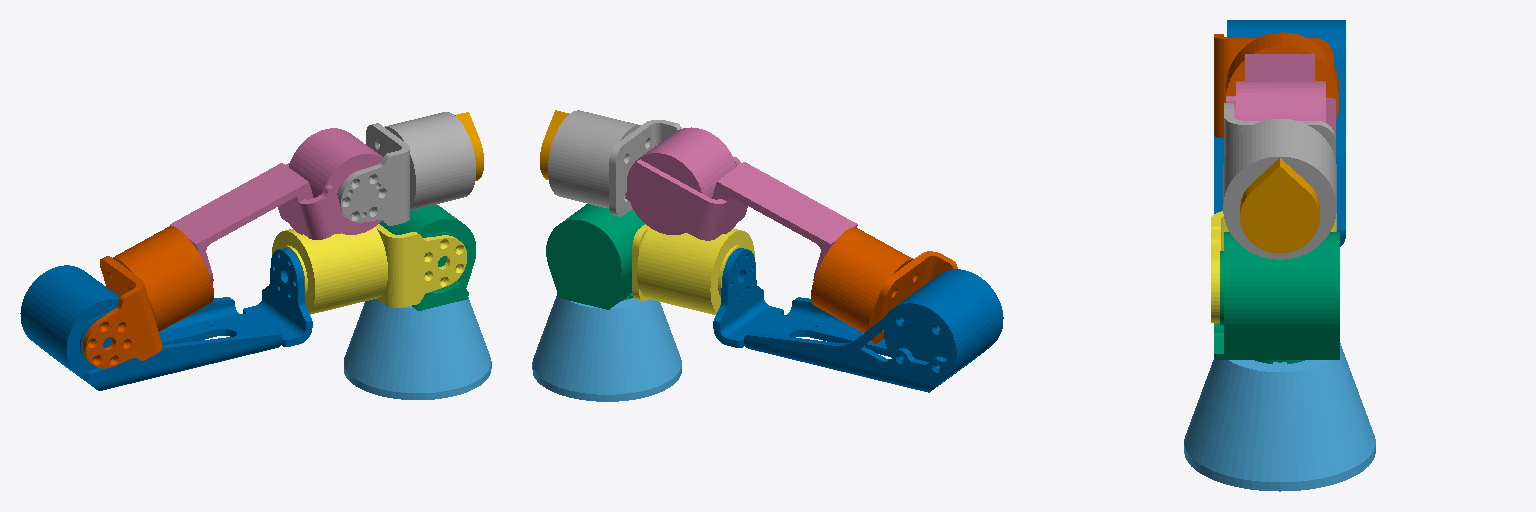
robot.urdf — swingarm_v2:
<?xml version="1.0" ?>
<!-- =================================================================================== -->
<!-- |    This document was autogenerated by xacro from robot.xacro                    | -->
<!-- |    EDITING THIS FILE BY HAND IS NOT RECOMMENDED                                 | -->
<!-- =================================================================================== -->
<robot name="swingarm_v2">
  <link name="world"/>
  <link name="base_link">
    <inertial>
      <origin rpy="0 0 0" xyz="0.0 0.0 0.028"/>
      <mass value="0.498"/>
      <inertia ixx="0.00027600000000000004" ixy="4.484e-08" ixz="-8.321810000000001e-07" iyy="0.0002769" iyz="1.42e-10" izz="0.000293"/>
    </inertial>
    <visual>
      <origin rpy="0 0 0" xyz="0 0 0"/>
      <geometry>
        <mesh filename="package://swingarm_v2_config/description/meshes/base_link.stl" scale="1 1 1"/>
      </geometry>
    </visual>
    <collision>
      <origin rpy="0 0 0" xyz="0 0 0"/>
      <geometry>
        <mesh filename="package://swingarm_v2_config/description/meshes/base_link.stl" scale="1 1 1"/>
      </geometry>
    </collision>
  </link>
  <link name="link1">
    <inertial>
      <origin rpy="0 0 0" xyz="0.0 -0.002 0.031"/>
      <mass value="0.432"/>
      <inertia ixx="0.00022150000000000002" ixy="7.813980000000001e-07" ixz="-7.29e-09" iyy="0.0001987" iyz="-6.728010000000001e-07" izz="0.0002012"/>
    </inertial>
    <visual>
      <origin rpy="0 0 0" xyz="0 0 0"/>
      <geometry>
        <mesh filename="package://swingarm_v2_config/description/meshes/link1.stl" scale="1 1 1"/>
      </geometry>
    </visual>
    <collision>
      <origin rpy="0 0 0" xyz="0 0 0"/>
      <geometry>
        <mesh filename="package://swingarm_v2_config/description/meshes/link1.stl" scale="1 1 1"/>
      </geometry>
    </collision>
  </link>
  <link name="link2">
    <inertial>
      <origin rpy="0 0 0" xyz="-0.055 -0.005 0.0"/>
      <mass value="0.553"/>
      <inertia ixx="0.0002747" ixy="0.0001009" ixz="-7.5e-11" iyy="0.0004359" iyz="-3.2072000000000004e-08" izz="0.0004935"/>
    </inertial>
    <visual>
      <origin rpy="0 0 0" xyz="0 0 0"/>
      <geometry>
        <mesh filename="package://swingarm_v2_config/description/meshes/link2.stl" scale="1 1 1"/>
      </geometry>
    </visual>
    <collision>
      <origin rpy="0 0 0" xyz="0 0 0"/>
      <geometry>
        <mesh filename="package://swingarm_v2_config/description/meshes/link2.stl" scale="1 1 1"/>
      </geometry>
    </collision>
  </link>
  <link name="link3">
    <inertial>
      <origin rpy="0 0 0" xyz="-0.112 0.001 -0.015"/>
      <mass value="0.952"/>
      <inertia ixx="0.0007244" ixy="4.3165882000000004e-05" ixz="0.00045200000000000004" iyy="0.003268" iyz="-2.5065069e-05" izz="0.0033360000000000004"/>
    </inertial>
    <visual>
      <origin rpy="0 0 0" xyz="0 0 0"/>
      <geometry>
        <mesh filename="package://swingarm_v2_config/description/meshes/link3.stl" scale="1 1 1"/>
      </geometry>
    </visual>
    <collision>
      <origin rpy="0 0 0" xyz="0 0 0"/>
      <geometry>
        <mesh filename="package://swingarm_v2_config/description/meshes/link3.stl" scale="1 1 1"/>
      </geometry>
    </collision>
  </link>
  <link name="link4">
    <inertial>
      <origin rpy="0 0.286 0" xyz="0.048 -0.004 0.014"/>
      <mass value="0.48"/>
      <inertia ixx="0.00025760000000000003" ixy="-8.390805400000001e-05" ixz="-3.6204464000000004e-05" iyy="0.00032520000000000004" iyz="-2.4580606000000003e-05" izz="0.00036990000000000005"/>
    </inertial>
    <visual>
      <origin rpy="0 0.286 0" xyz="0 0 0"/>
      <geometry>
        <mesh filename="package://swingarm_v2_config/description/meshes/link4.stl" scale="1 1 1"/>
      </geometry>
    </visual>
    <collision>
      <origin rpy="0 0.286 0" xyz="0 0 0"/>
      <geometry>
        <mesh filename="package://swingarm_v2_config/description/meshes/link4.stl" scale="1 1 1"/>
      </geometry>
    </collision>
  </link>
  <link name="link5">
    <inertial>
      <origin rpy="0 0 0" xyz="0.089 0.0 0.004"/>
      <mass value="0.612"/>
      <inertia ixx="0.00023640000000000003" ixy="-8.627075e-06" ixz="0.00011760000000000001" iyy="0.001082" iyz="9.8253e-07" izz="0.001077"/>
    </inertial>
    <visual>
      <origin rpy="0 0 0" xyz="0 0 0"/>
      <geometry>
        <mesh filename="package://swingarm_v2_config/description/meshes/link5.stl" scale="1 1 1"/>
      </geometry>
    </visual>
    <collision>
      <origin rpy="0 0 0" xyz="0 0 0"/>
      <geometry>
        <mesh filename="package://swingarm_v2_config/description/meshes/link5.stl" scale="1 1 1"/>
      </geometry>
    </collision>
  </link>
  <link name="link6">
    <inertial>
      <origin rpy="0 0 0" xyz="0.05 0.0 0.0"/>
      <mass value="0.484"/>
      <inertia ixx="0.00022040000000000002" ixy="-6.5970771e-05" ixz="-2.3777000000000002e-08" iyy="0.00032490000000000004" iyz="1.02795e-07" izz="0.0003573"/>
    </inertial>
    <visual>
      <origin rpy="0 0 0" xyz="0 -0.023 0"/>
      <geometry>
        <mesh filename="package://swingarm_v2_config/description/meshes/link6.stl" scale="1 1 1"/>
      </geometry>
    </visual>
    <collision>
      <origin rpy="0 0 0" xyz="0 -0.023 0"/>
      <geometry>
        <mesh filename="package://swingarm_v2_config/description/meshes/link6.stl" scale="1 1 1"/>
      </geometry>
    </collision>
  </link>
  <link name="link7">
    <inertial>
      <origin rpy="0 0 0" xyz="0.005 0.0 0.001"/>
      <mass value="0.105"/>
      <inertia ixx="2.296e-05" ixy="0.0" ixz="-5.572e-09" iyy="1.383e-05" iyz="0.0" izz="1.089e-05"/>
    </inertial>
    <visual>
      <origin rpy="0 0 0" xyz="0 0 0"/>
      <geometry>
        <mesh filename="package://swingarm_v2_config/description/meshes/link7.stl" scale="1 1 1"/>
      </geometry>
    </visual>
    <collision>
      <origin rpy="0 0 0" xyz="0 0 0"/>
      <geometry>
        <mesh filename="package://swingarm_v2_config/description/meshes/link7.stl" scale="1 1 1"/>
      </geometry>
    </collision>
  </link>
  <joint name="fixed_world" type="fixed">
    <origin rpy="0 0 0" xyz="0 0 0"/>
    <parent link="world"/>
    <child link="base_link"/>
  </joint>
  <joint name="joint1" type="revolute">
    <origin rpy="0 0 0" xyz="0 0 0.0565"/>
    <parent link="base_link"/>
    <child link="link1"/>
    <axis xyz="0 0 1"/>
    <limit effort="30" lower="-1.57" upper="1.57" velocity="1.5"/>
  </joint>
  <joint name="joint2" type="revolute">
    <origin rpy="0 0 0" xyz="0 0 0.0335"/>
    <parent link="link1"/>
    <child link="link2"/>
    <axis xyz="0 1 0"/>
    <limit effort="30" lower="0" upper="3.14" velocity="1.5"/>
  </joint>
  <joint name="joint3" type="revolute">
    <origin rpy="0 0 0" xyz="-0.095 0 0"/>
    <parent link="link2"/>
    <child link="link3"/>
    <axis xyz="1 0 0"/>
    <limit effort="30" lower="-3.14" upper="0.0" velocity="1.5"/>
  </joint>
  <joint name="joint4" type="revolute">
    <origin rpy="0 -0.286 0" xyz="-0.155 0 0"/>
    <parent link="link3"/>
    <child link="link4"/>
    <axis xyz="0 1 0"/>
    <limit effort="10" lower="-1.1" upper="0.3" velocity="1.5"/>
  </joint>
  <joint name="joint5" type="revolute">
    <origin rpy="0  0  0" xyz="0.0845 0 0"/>
    <parent link="link4"/>
    <child link="link5"/>
    <axis xyz="1 0 0"/>
    <limit effort="10" lower="-0.785" upper="0.785" velocity="1.5"/>
  </joint>
  <joint name="joint6" type="revolute">
    <origin rpy="0 0.286 0" xyz="0.1177 0 0"/>
    <parent link="link5"/>
    <child link="link6"/>
    <axis xyz="0 1 0"/>
    <limit effort="10" lower="-1.57" upper="1.57" velocity="1.5"/>
  </joint>
  <joint name="joint7" type="revolute">
    <origin rpy="0 0 0" xyz="0.0845 0 0"/>
    <parent link="link6"/>
    <child link="link7"/>
    <axis xyz="1 0 0"/>
    <limit effort="10" lower="-1.57" upper="1.57" velocity="1.5"/>
  </joint>
  <transmission name="joint1_tran">
    <type>transmission_interface/SimpleTransmission</type>
    <joint name="joint1">
      <hardwareInterface>hardware_interface/EffortJointInterface</hardwareInterface>
    </joint>
    <actuator name="joint1_motor">
      <hardwareInterface>hardware_interface/EffortJointInterface</hardwareInterface>
      <mechanicalReduction>1</mechanicalReduction>
    </actuator>
  </transmission>
  <transmission name="joint2_tran">
    <type>transmission_interface/SimpleTransmission</type>
    <joint name="joint2">
      <hardwareInterface>hardware_interface/EffortJointInterface</hardwareInterface>
    </joint>
    <actuator name="joint2_motor">
      <hardwareInterface>hardware_interface/EffortJointInterface</hardwareInterface>
      <mechanicalReduction>-1</mechanicalReduction>
    </actuator>
  </transmission>
  <transmission name="joint3_tran">
    <type>transmission_interface/SimpleTransmission</type>
    <joint name="joint3">
      <hardwareInterface>hardware_interface/EffortJointInterface</hardwareInterface>
    </joint>
    <actuator name="joint3_motor">
      <hardwareInterface>hardware_interface/EffortJointInterface</hardwareInterface>
      <mechanicalReduction>1</mechanicalReduction>
    </actuator>
  </transmission>
  <transmission name="joint4_tran">
    <type>transmission_interface/SimpleTransmission</type>
    <joint name="joint4">
      <hardwareInterface>hardware_interface/EffortJointInterface</hardwareInterface>
    </joint>
    <actuator name="joint4_motor">
      <hardwareInterface>hardware_interface/EffortJointInterface</hardwareInterface>
      <mechanicalReduction>-1</mechanicalReduction>
    </actuator>
  </transmission>
  <transmission name="joint5_tran">
    <type>transmission_interface/SimpleTransmission</type>
    <joint name="joint5">
      <hardwareInterface>hardware_interface/EffortJointInterface</hardwareInterface>
    </joint>
    <actuator name="joint5_motor">
      <hardwareInterface>hardware_interface/EffortJointInterface</hardwareInterface>
      <mechanicalReduction>-1</mechanicalReduction>
    </actuator>
  </transmission>
  <transmission name="joint6_tran">
    <type>transmission_interface/SimpleTransmission</type>
    <joint name="joint6">
      <hardwareInterface>hardware_interface/EffortJointInterface</hardwareInterface>
    </joint>
    <actuator name="joint6_motor">
      <hardwareInterface>hardware_interface/EffortJointInterface</hardwareInterface>
      <mechanicalReduction>1</mechanicalReduction>
    </actuator>
  </transmission>
  <gazebo>
    <plugin filename="libgazebo_ros_control.so" name="gazebo_ros_control">
      <robotNamespace>/</robotNamespace>
    </plugin>
  </gazebo>
</robot>

--- Render facts (derived) ---
The picture shows the robot from 3 angles, left to right: view 1: azimuth 30°, elevation 25°; view 2: azimuth 150°, elevation 25°; view 3: azimuth 270°, elevation 25°; orthographic projection.
Robot: swingarm_v2 — 9 links, 8 joints (7 revolute, 1 fixed); root link world; default pose: all joints at 0.
Visible links, largest first — view 1: link3, base_link, link5, link2, link4, link6, link1, link7; view 2: link3, link5, base_link, link4, link6, link1, link2, link7; view 3: base_link, link1, link6, link5, link7, link3, link4, link2.
Boxes of the visible links, x1,y1,x2,y2 form: link3: (20, 248, 312, 390); base_link: (344, 297, 491, 399); link5: (170, 128, 382, 282); link2: (272, 224, 466, 314); link4: (83, 226, 213, 368); link6: (338, 112, 475, 225); link1: (379, 204, 475, 310); link7: (455, 112, 483, 180); link3: (713, 248, 1003, 392); link5: (625, 127, 857, 280); base_link: (532, 293, 681, 401); link4: (811, 227, 957, 343); link6: (548, 110, 681, 216); link1: (546, 204, 644, 309); link2: (632, 224, 754, 314); link7: (540, 110, 568, 179); base_link: (1184, 343, 1375, 491); link1: (1214, 232, 1339, 363); link6: (1223, 103, 1336, 259); link5: (1226, 54, 1335, 134); link7: (1240, 158, 1319, 253); link3: (1214, 20, 1345, 246); link4: (1214, 32, 1338, 137); link2: (1211, 211, 1336, 322).
Bounding box of the posed robot: 0.3264 × 0.096 × 0.1755 m (x, y, z).
8 mesh visuals loaded from 8 distinct referenced files (8 binary STL).